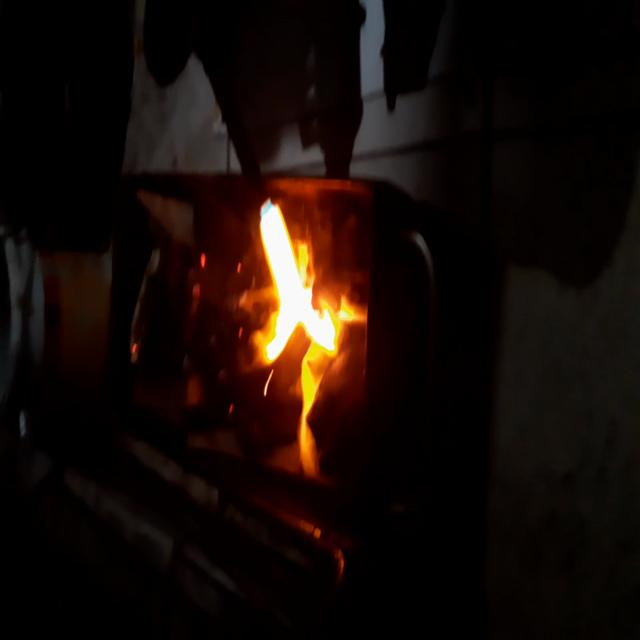Fire: (230, 209, 364, 459)
